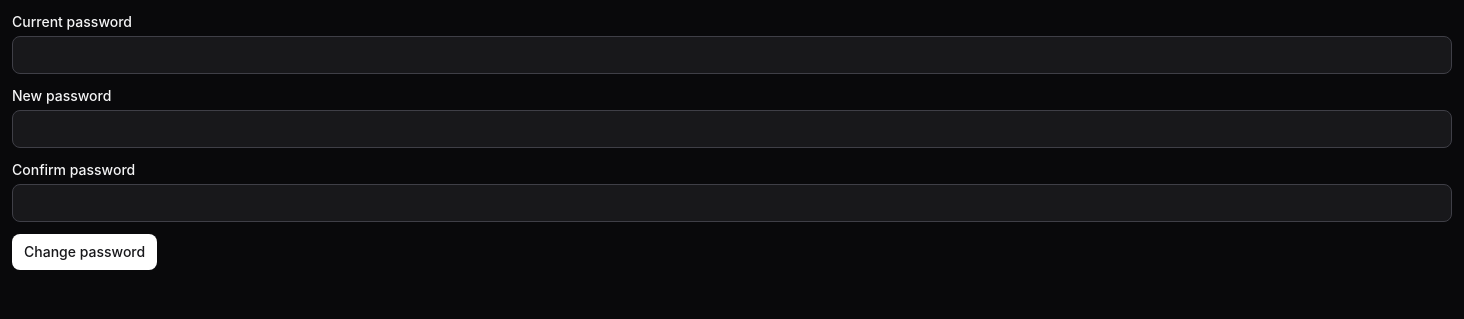
Test: ChangePasswordForm › maps a wrong current password to an honest error
Type "wrong-password" into the password field labelled "Current password".
click(732, 55); type("wrong-password")  # box [12,36,1452,74]
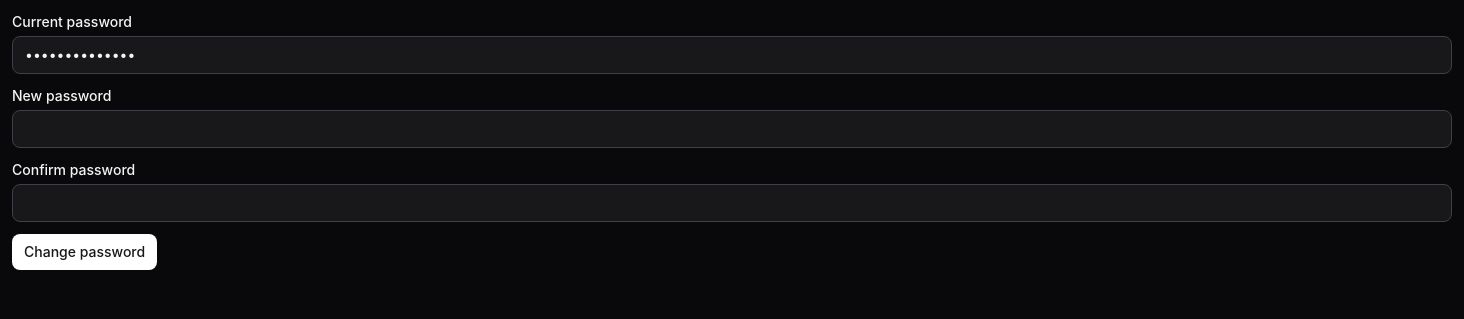
Type "new-password-456" into the password field labelled "New password".
click(732, 129); type("new-password-456")  # box [12,110,1452,148]
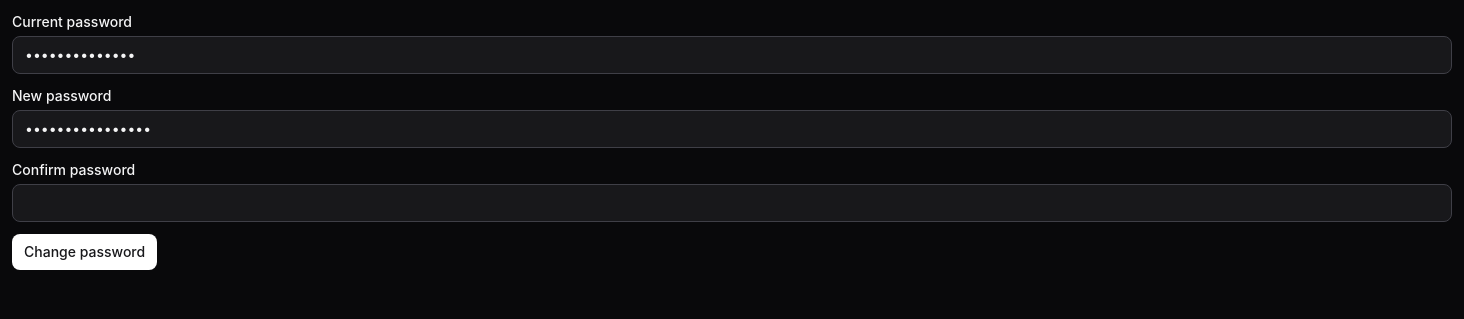
Type "new-password-456" into the password field labelled "Confirm password".
click(732, 203); type("new-password-456")  # box [12,184,1452,222]
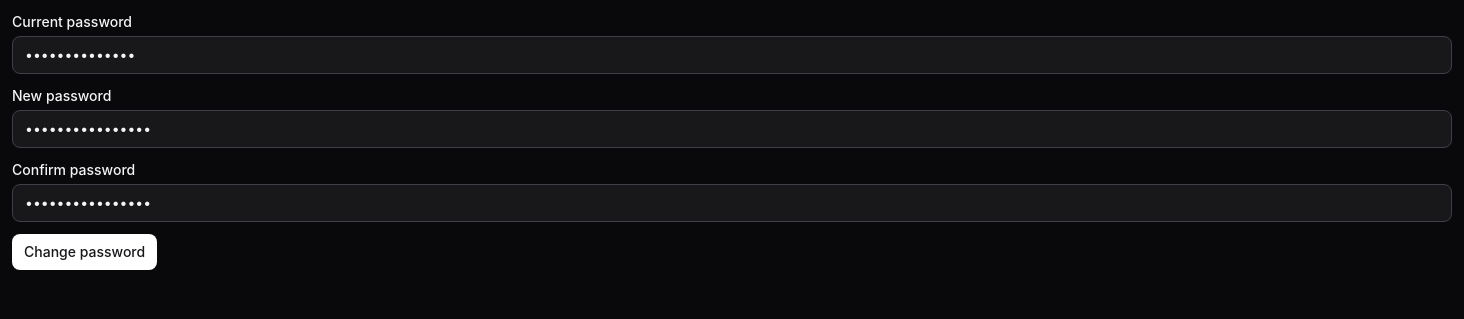
Click the button "Change password".
click(85, 252)  # box [12,234,157,270]
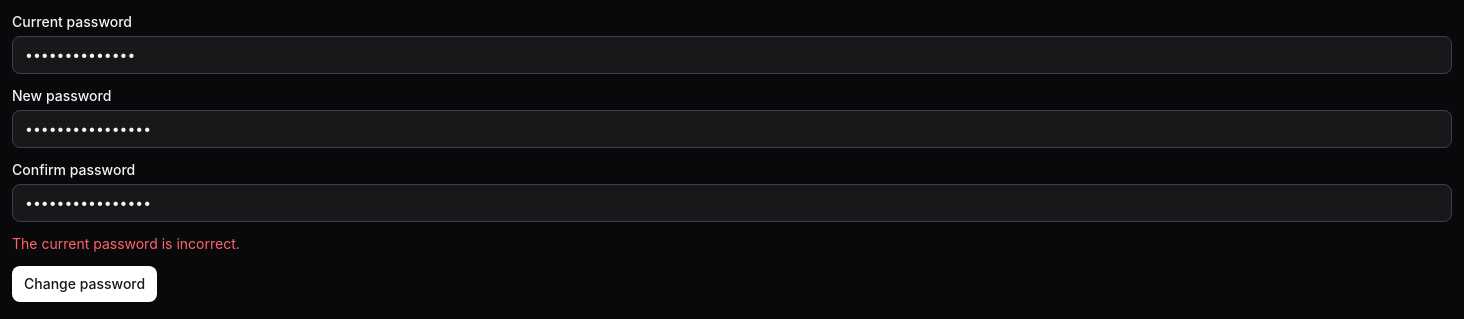
Result: the message reads "The current password is incorrect." at [12,235,240,252]
